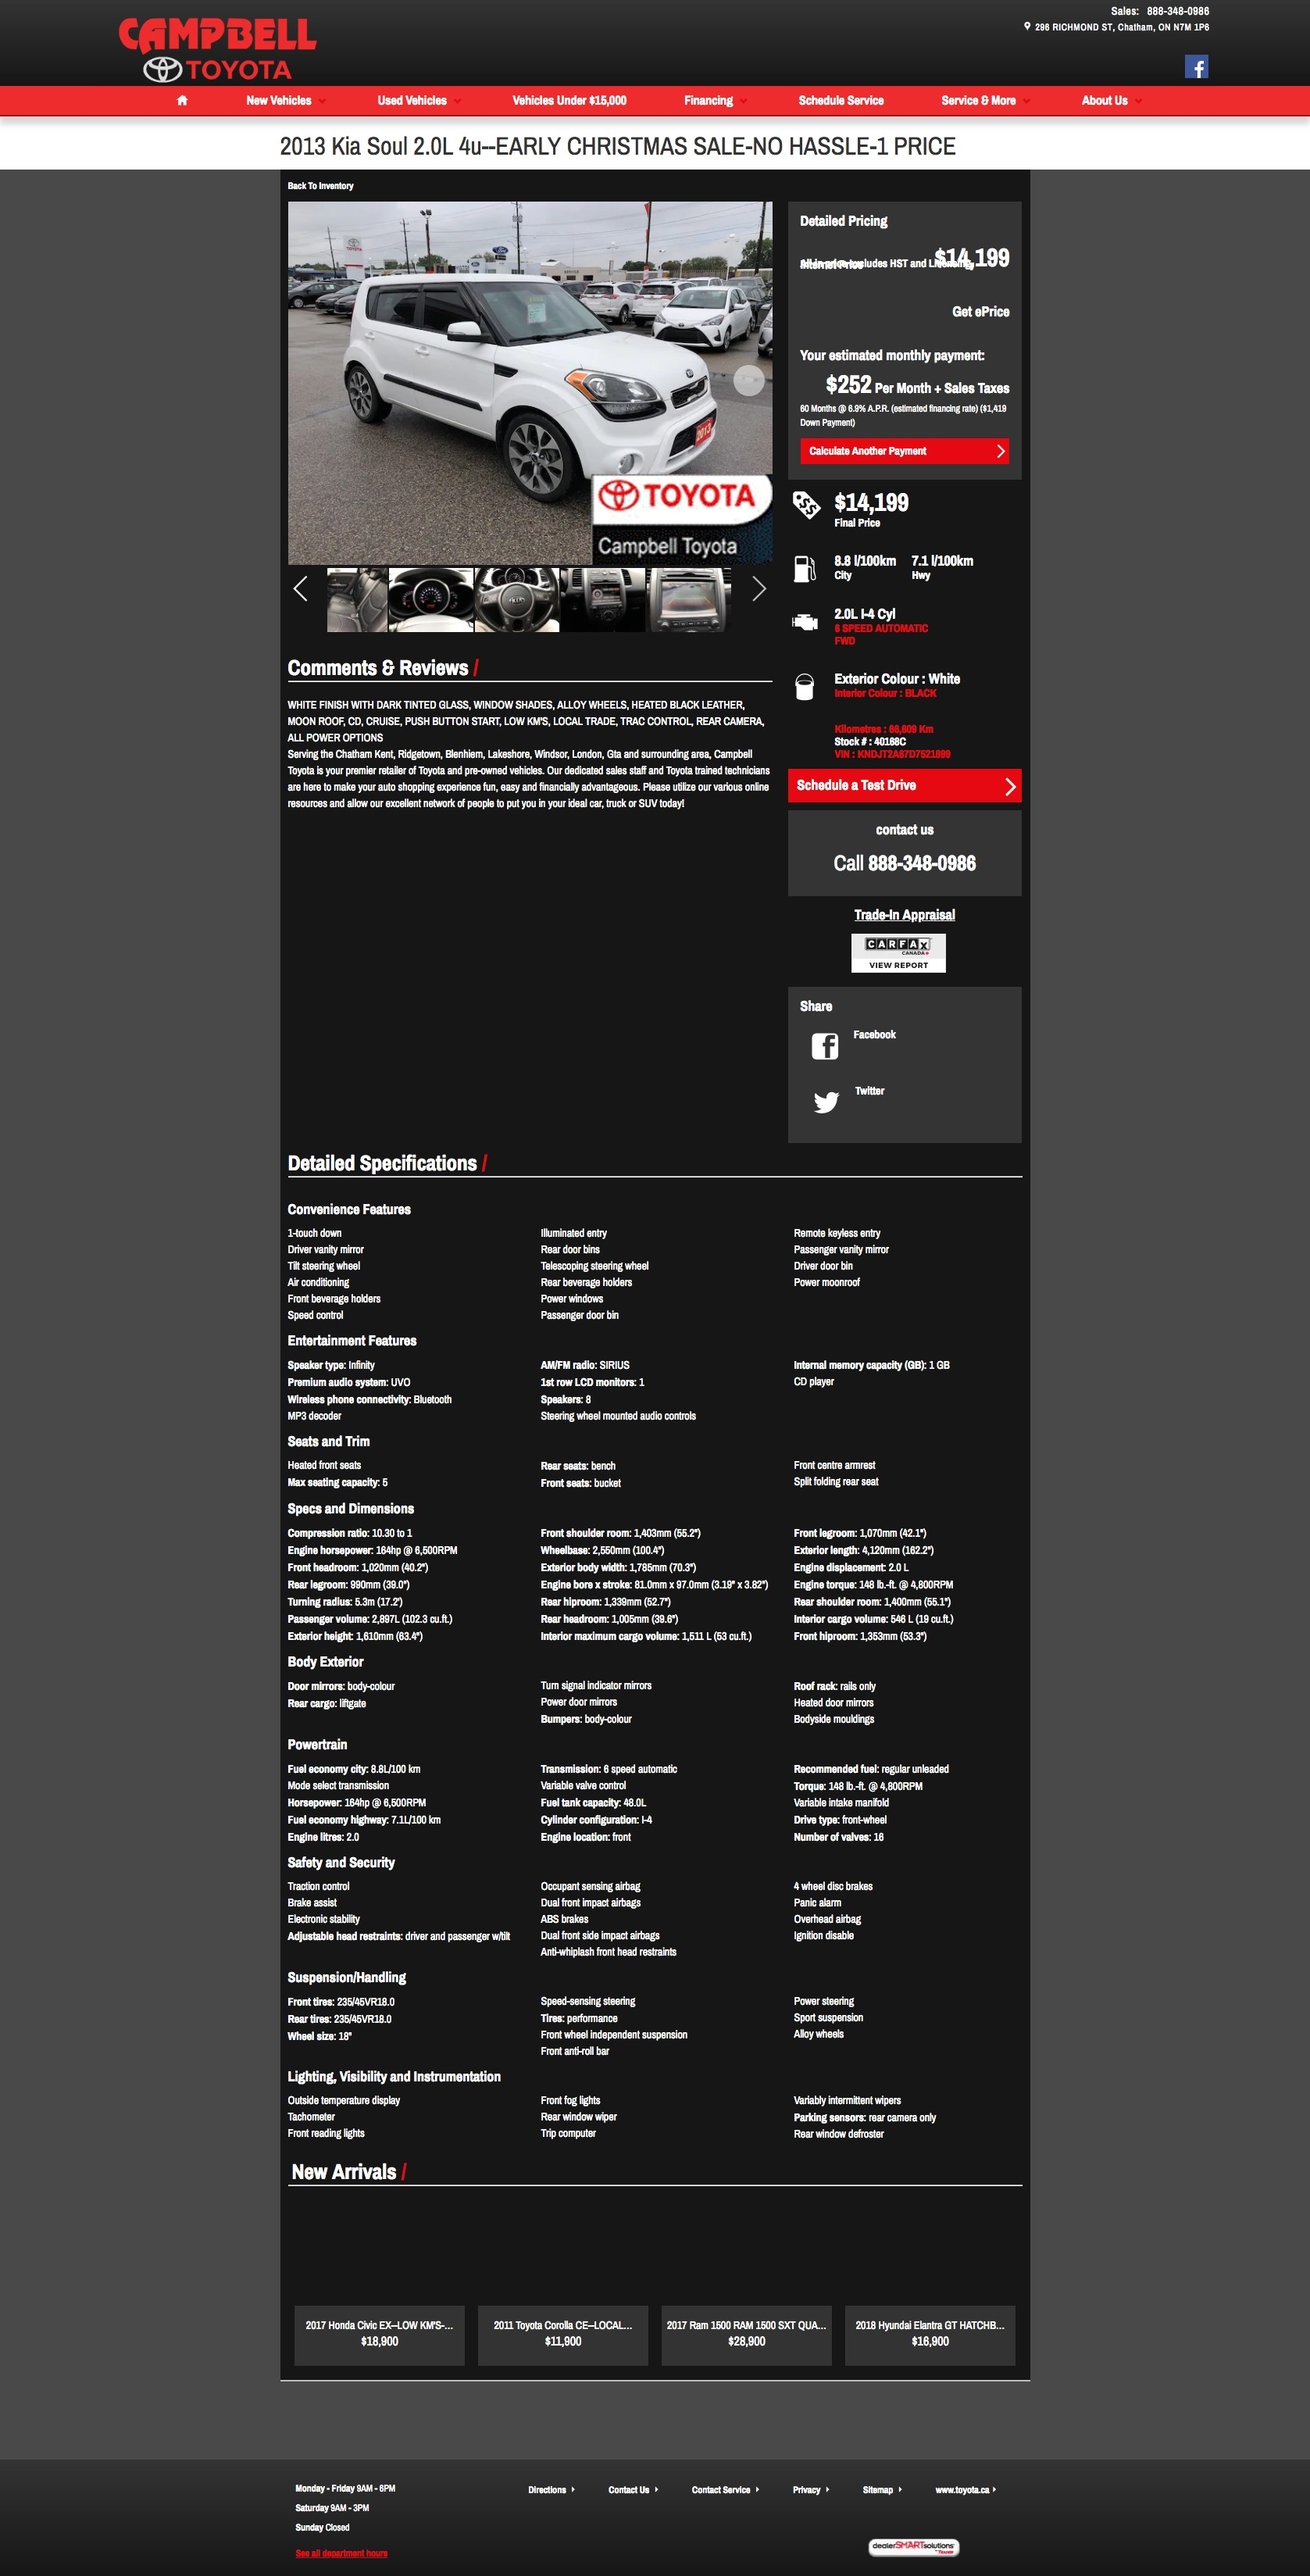car: (749, 573, 770, 603)
